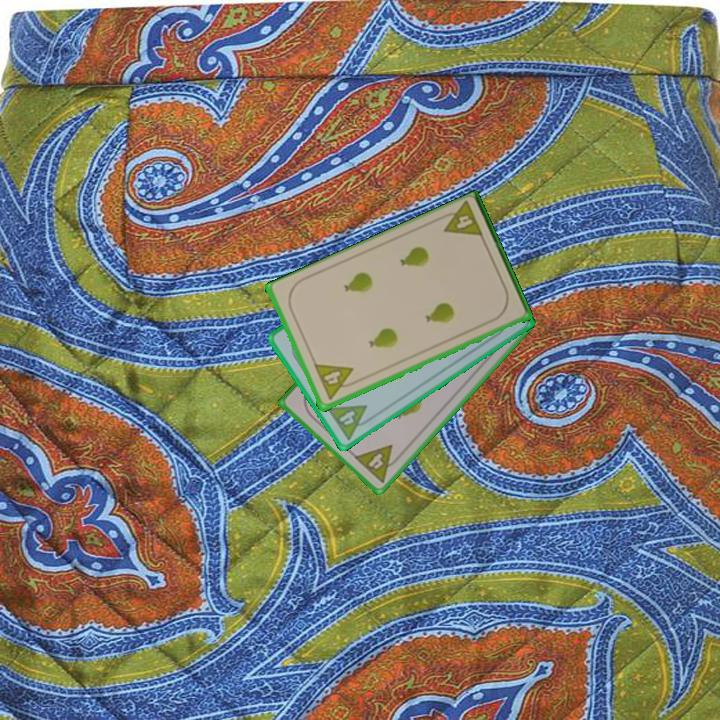4p: (350, 441, 405, 486), (323, 401, 377, 443), (435, 199, 486, 242), (311, 361, 360, 403)
